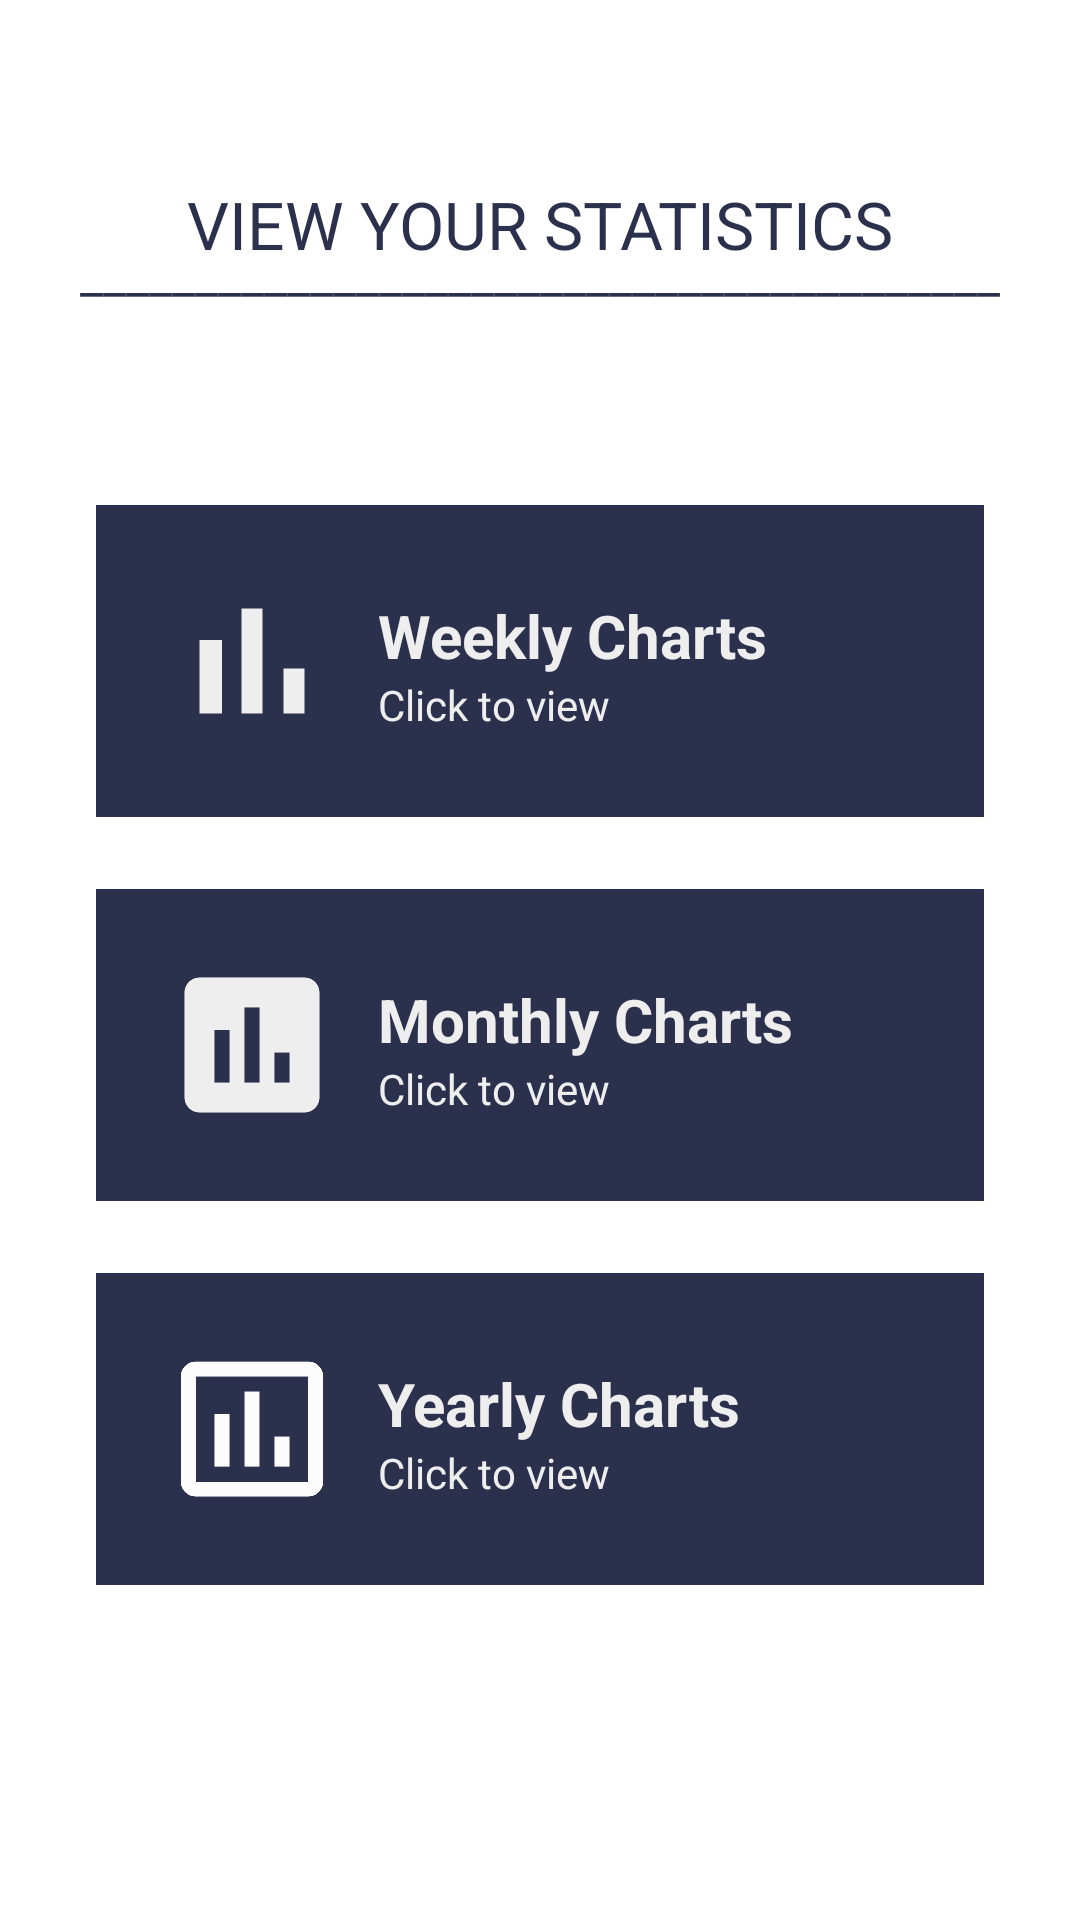

Screen size 1080 × 1920. Icon name, then its box in pixels as BBox(x1, y1, x2, y2):
bar chart: BBox(199, 608, 305, 714)
insert chart: BBox(184, 977, 320, 1113), BBox(181, 1361, 323, 1497)
